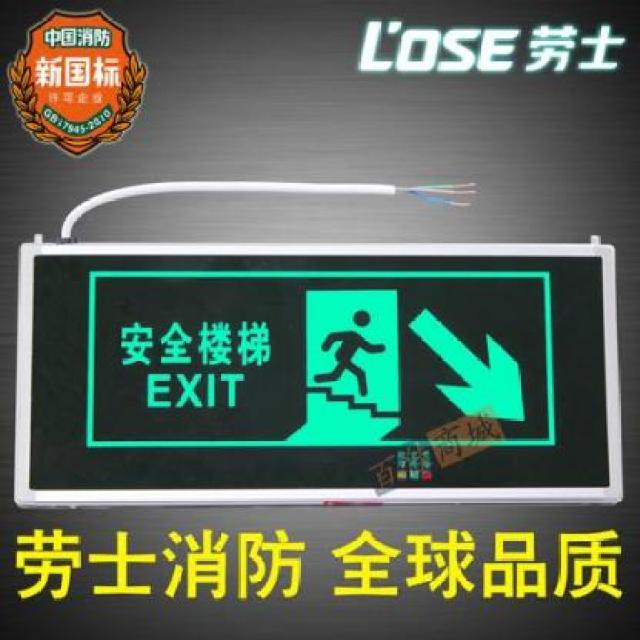exit_sign: (28, 249, 610, 493)
